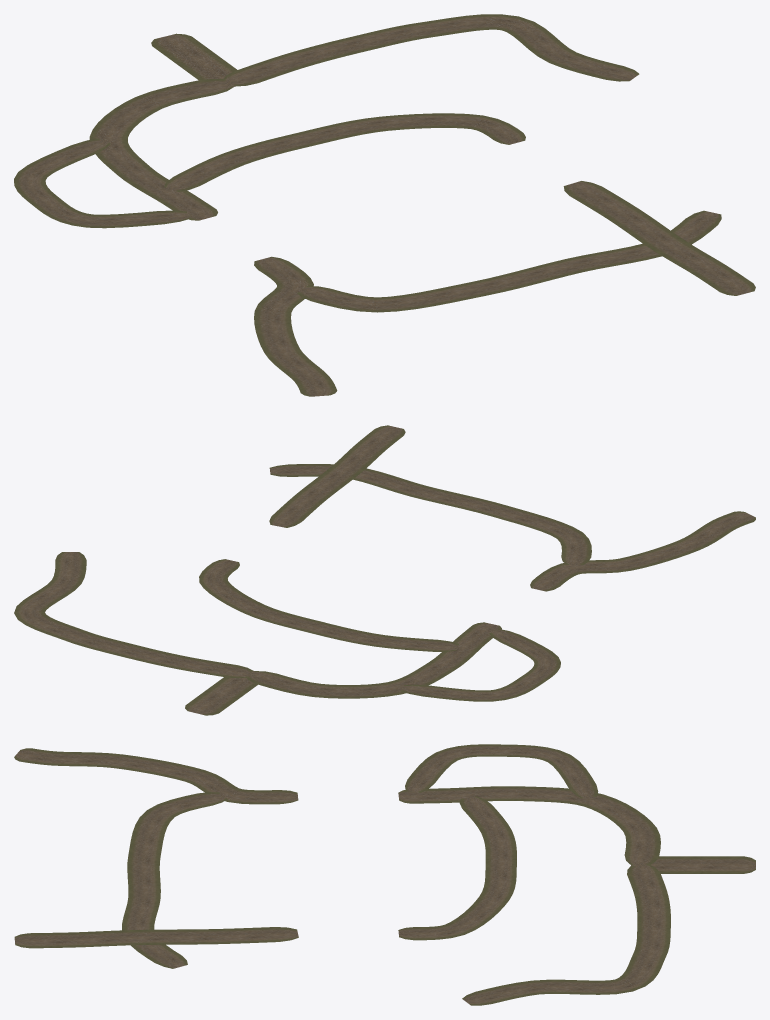
Rendered from duckov_compound_paths.obj.
3 renders of one model, top to bottom at view 1: azimuth 30°, elevation 25°; view 2: azimuth 150°, elevation 25°; view 3: azimuth 270°, elevation 25°, orthographic. The views are drawn at different scales.
Parts seen in each view (by area): view 1: DuckovCompoundPaths; view 2: DuckovCompoundPaths; view 3: DuckovCompoundPaths.
Part boxes in pixels (<box>): DuckovCompoundPaths: <box>14,14,755,396</box>; DuckovCompoundPaths: <box>14,425,755,715</box>; DuckovCompoundPaths: <box>14,744,755,1005</box>.
Bounding box in the file's own units: 53.39 × 0.0042 × 64.08.
Materials: 1 (1 with a texture image).
